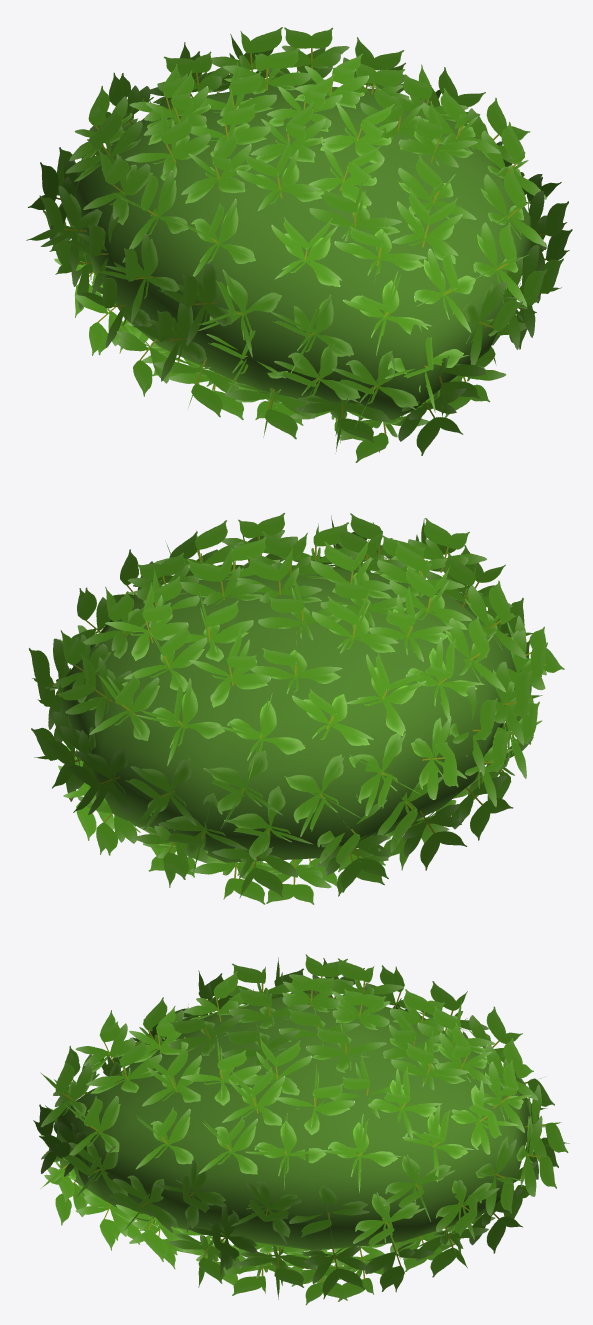
File: Bladeren1Mesh.fbx
The picture shows the model from 3 angles, top to bottom: view 1: azimuth 30°, elevation 25°; view 2: azimuth 150°, elevation 25°; view 3: azimuth 270°, elevation 25°; orthographic projection. The views are drawn at different scales.
Parts seen in each view (by area): view 1: group13; view 2: group13; view 3: group13.
Boxes of the visible parts, x1,y1,x2,y2 form: group13: (26, 27, 572, 462); group13: (29, 512, 564, 904); group13: (33, 954, 569, 1305).
Bounding box in the file's own units: 8.38 × 5.63 × 10.12.
